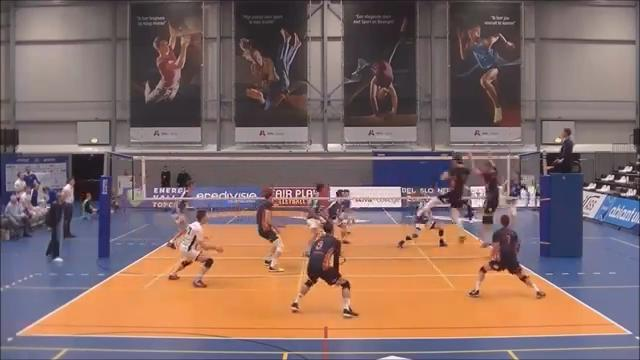Block: (412, 149, 473, 245), (467, 148, 502, 252)
Player: (291, 221, 357, 317), (469, 215, 545, 297), (169, 210, 222, 287), (256, 188, 283, 271), (397, 203, 446, 247), (166, 180, 194, 248), (303, 199, 327, 256), (327, 190, 349, 243), (166, 200, 186, 248), (342, 189, 355, 224)
